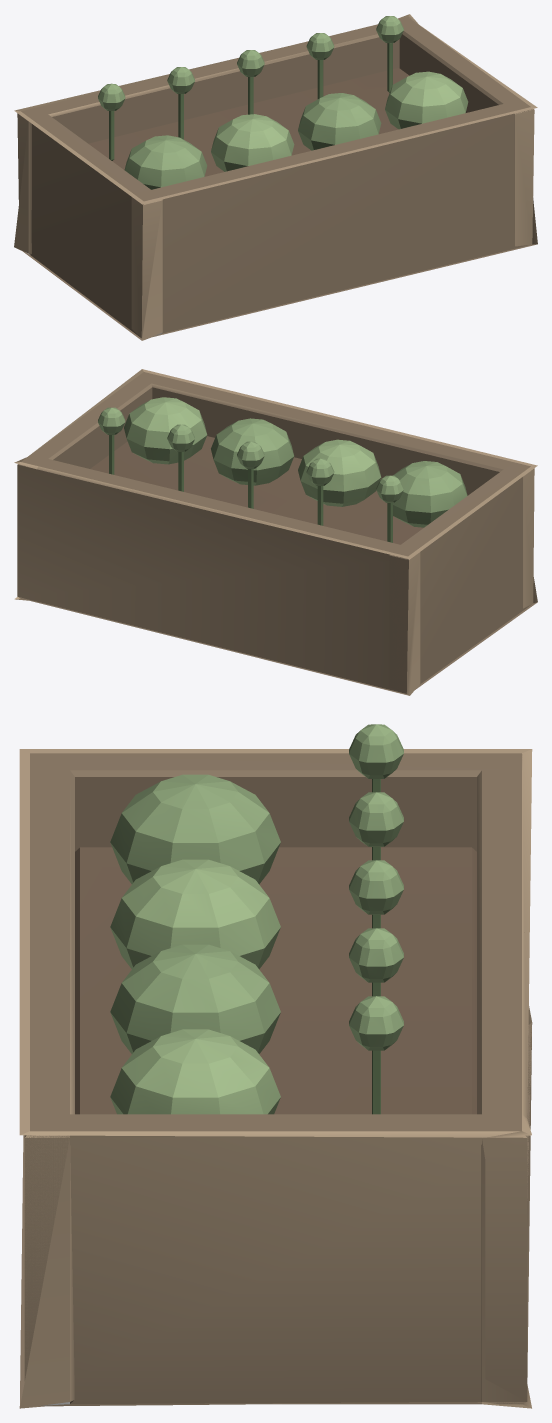
The model's file is planter_box.glb.
The picture shows the model from 3 angles, top to bottom: view 1: azimuth 30°, elevation 25°; view 2: azimuth 150°, elevation 25°; view 3: azimuth 270°, elevation 25°; orthographic projection. The views are drawn at different scales.
Bounding box in the file's own units: 0.91 × 0.39 × 0.51.
